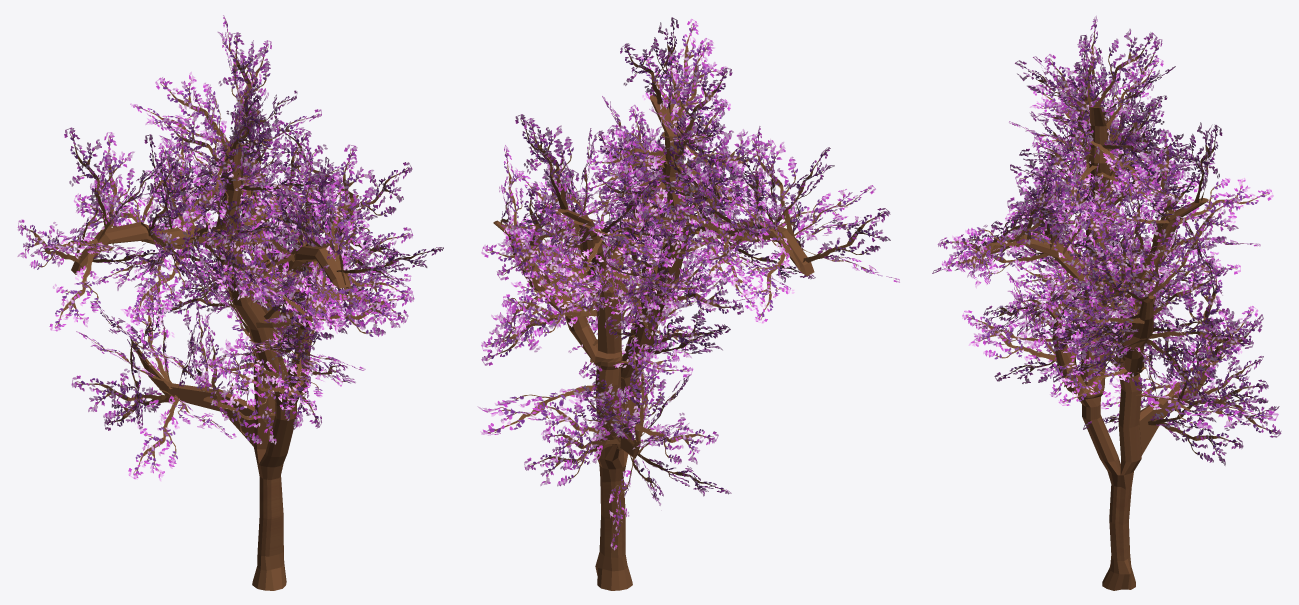
The model's file is tree (1).fbx.
3 renders of one model, left to right at view 1: azimuth 30°, elevation 25°; view 2: azimuth 150°, elevation 25°; view 3: azimuth 270°, elevation 25°, orthographic. The views are drawn at different scales.
Parts seen in each view (by area): view 1: Tree, Tree|Branches|Dupli|188, Tree|Branches|Dupli|176, Tree|Branches|Dupli|191, Tree|Branches|Dupli|127, Tree|Branches|Dupli|3, Tree|Branches|Dupli|112, Tree|Branches|Dupli|162, Tree|Branches|Dupli|113, Tree|Branches|Dupli|63, Tree|Branches|Dupli|66, Tree|Branches|Dupli|164 (+47 smaller); view 2: Tree, Branches, Tree|Branches|Dupli|128, Tree|Branches|Dupli|53, Tree|Branches|Dupli|40, Tree|Branches|Dupli|174, Tree|Branches|Dupli|168, Tree|Branches|Dupli|172, Tree|Branches|Dupli|155, Tree|Branches|Dupli|54, Tree|Branches|Dupli|198, Tree|Branches|Dupli|41 (+57 smaller); view 3: Tree, Tree|Branches|Dupli|1, Tree|Branches|Dupli|138, Branches, Tree|Branches|Dupli|137, Tree|Branches|Dupli|111, Tree|Branches|Dupli|64, Tree|Branches|Dupli|52, Tree|Branches|Dupli|9, Tree|Branches|Dupli|134, Tree|Branches|Dupli|136, Tree|Branches|Dupli|185 (+67 smaller).
Part boxes in pixels (x1,y1,x2,y2): Tree: (71,110,358,590); Tree|Branches|Dupli|188: (71,368,166,419); Tree|Branches|Dupli|176: (64,127,113,227); Tree|Branches|Dupli|191: (128,395,179,481); Tree|Branches|Dupli|127: (49,253,100,331); Tree|Branches|Dupli|3: (308,286,414,336); Tree|Branches|Dupli|112: (218,32,270,130); Tree|Branches|Dupli|162: (155,71,234,153); Tree|Branches|Dupli|113: (177,143,233,232); Tree|Branches|Dupli|63: (323,144,373,249); Tree|Branches|Dupli|66: (313,175,359,278); Tree|Branches|Dupli|164: (130,247,174,325); Tree: (493,95,814,590); Branches: (477,385,597,435); Tree|Branches|Dupli|128: (746,134,797,235); Tree|Branches|Dupli|53: (496,215,589,280); Tree|Branches|Dupli|40: (503,285,596,336); Tree|Branches|Dupli|174: (803,208,890,262); Tree|Branches|Dupli|168: (652,165,742,233); Tree|Branches|Dupli|172: (635,187,730,244); Tree|Branches|Dupli|155: (586,128,665,180); Tree|Branches|Dupli|54: (524,118,573,209); Tree|Branches|Dupli|198: (634,412,718,464); Tree|Branches|Dupli|41: (608,270,672,351); Tree: (989,107,1230,590); Tree|Branches|Dupli|1: (962,310,1056,361); Tree|Branches|Dupli|138: (1041,292,1144,340); Branches: (1120,393,1278,428); Tree|Branches|Dupli|137: (1149,317,1253,356); Tree|Branches|Dupli|111: (1093,28,1157,107); Tree|Branches|Dupli|64: (942,227,1040,273); Tree|Branches|Dupli|52: (1140,130,1189,227); Tree|Branches|Dupli|9: (1150,194,1238,257); Tree|Branches|Dupli|134: (1142,216,1185,308); Tree|Branches|Dupli|136: (1094,225,1149,310); Tree|Branches|Dupli|185: (1160,415,1243,465).
Size of the model in its own units: 6239 by 8660 by 5097.
